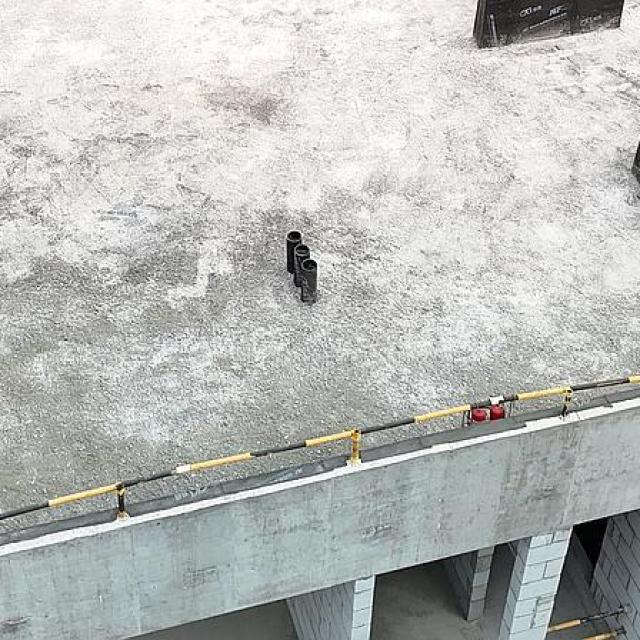edge_guardrail: (0, 373, 640, 523), (546, 607, 626, 640)
